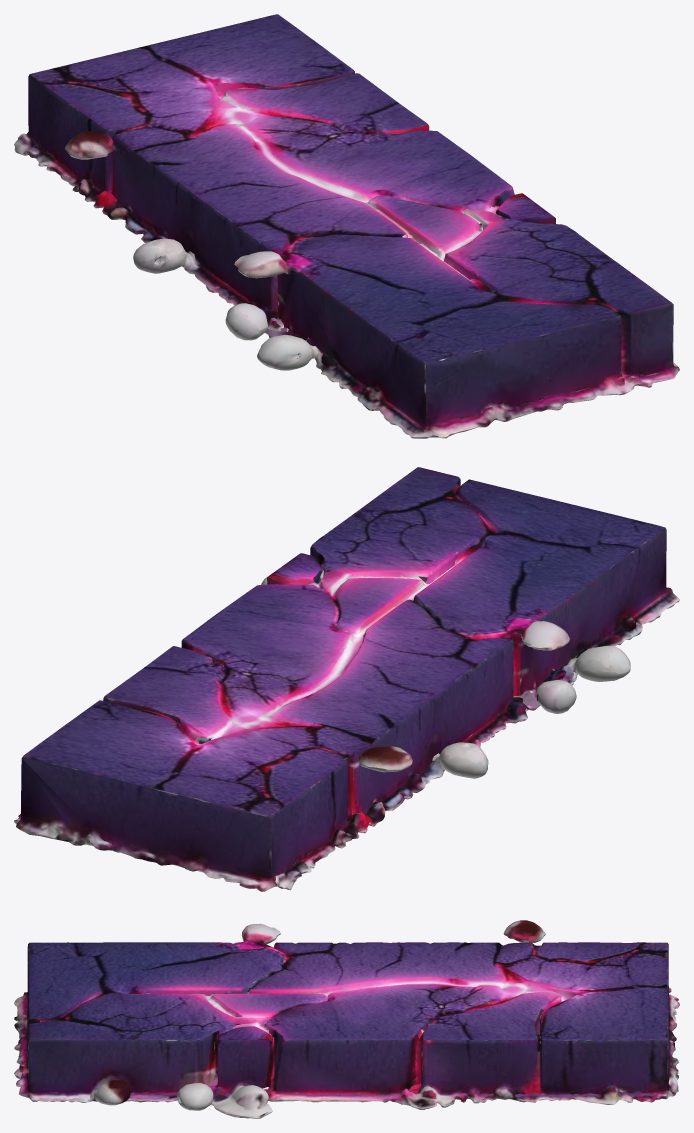
File: approach-stone-2-generated-2026-05-17T18-19-31-221Z.low.glb
3 views of the same model, one above another, from view 1: azimuth 30°, elevation 25°; view 2: azimuth 150°, elevation 25°; view 3: azimuth 270°, elevation 25° (orthographic). The views are drawn at different scales.
Parts seen in each view (by area): view 1: temp_mesh.ply; view 2: temp_mesh.ply; view 3: temp_mesh.ply.
Boxes of the visible parts, <box> form: temp_mesh.ply: <box>14,14,679,438</box>; temp_mesh.ply: <box>14,467,679,891</box>; temp_mesh.ply: <box>14,920,679,1118</box>.
Bounding box in the file's own units: 1.02 × 0.221 × 1.97.
Materials: 1 (1 with a texture image).
